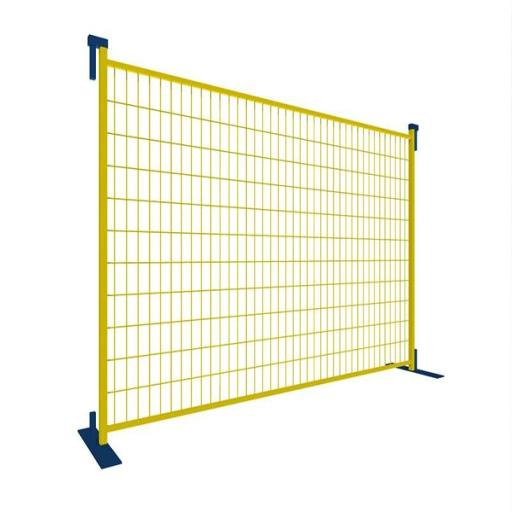bus_stop: (90, 38, 416, 446)
